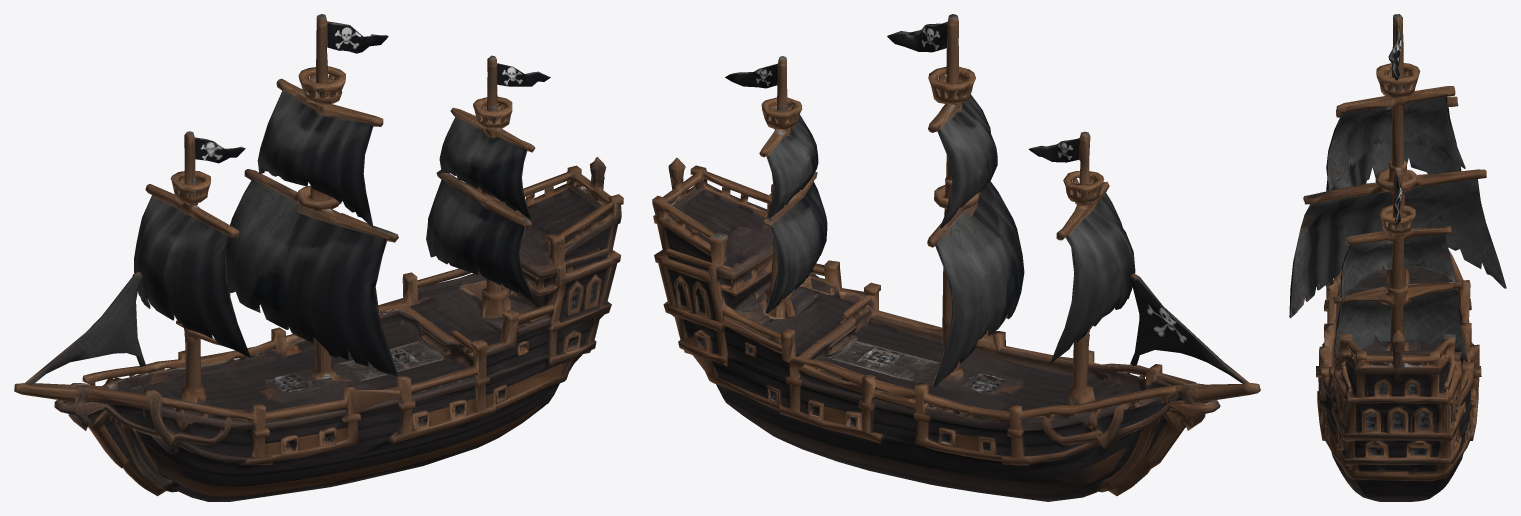
The model's file is Pirate Ship.glb.
3 renders of one model, left to right at view 1: azimuth 30°, elevation 25°; view 2: azimuth 150°, elevation 25°; view 3: azimuth 270°, elevation 25°, orthographic. The views are drawn at different scales.
Size of the model in its own units: 1.9 by 1.38 by 0.6609.
1 material, 1 textured.
